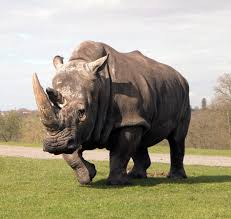Rhinoceros: (24, 35, 194, 186)
